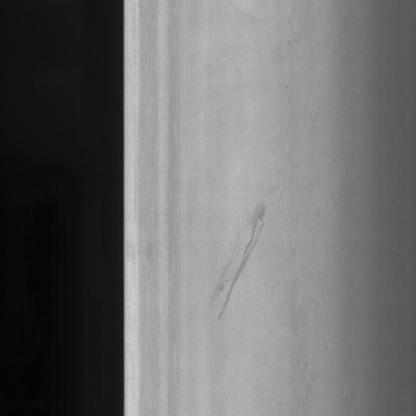water_spot: (207, 198, 288, 324)
